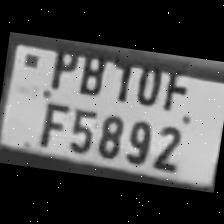0: (130, 50, 166, 107)
1: (103, 47, 138, 103)
2: (147, 117, 187, 172)
5: (62, 100, 98, 154)
8: (92, 106, 126, 160)
9: (121, 112, 154, 164)
B: (74, 44, 110, 97)
F: (157, 53, 194, 112), (31, 94, 69, 149)
P: (40, 39, 80, 92)
